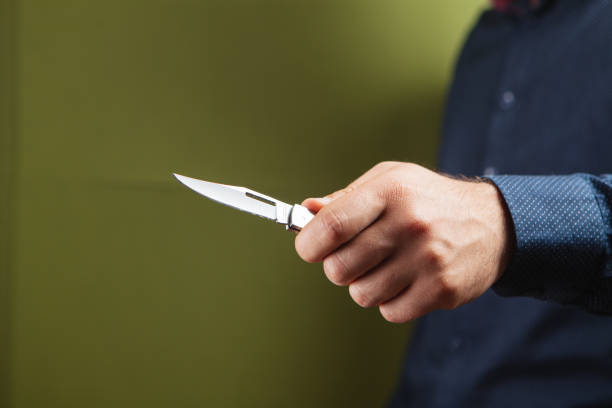knife: (172, 173, 317, 231)
